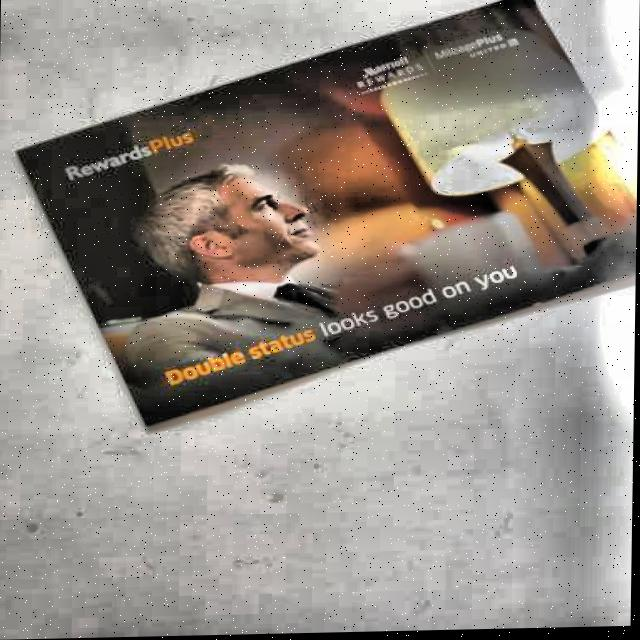paper: (8, 0, 640, 431)
